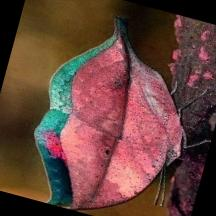butterfly: (34, 19, 184, 211)
